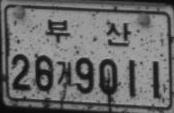0: (97, 57, 118, 95)
1: (122, 58, 141, 98), (146, 60, 166, 98)
2: (10, 52, 31, 90)
6: (34, 53, 54, 92)
9: (74, 56, 94, 94)
거: (56, 59, 71, 85)
부산_D: (45, 18, 132, 47)
